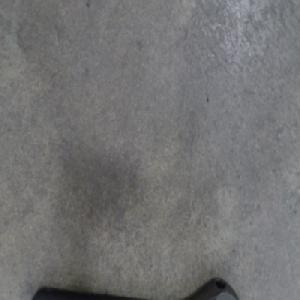AdjustableWrench: (34, 273, 239, 300)
